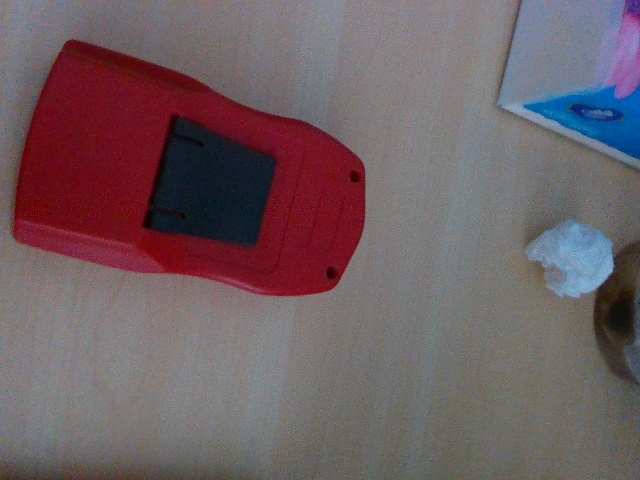multimeter: (12, 39, 367, 297)
screw hole: (348, 169, 362, 184), (326, 267, 339, 280)
